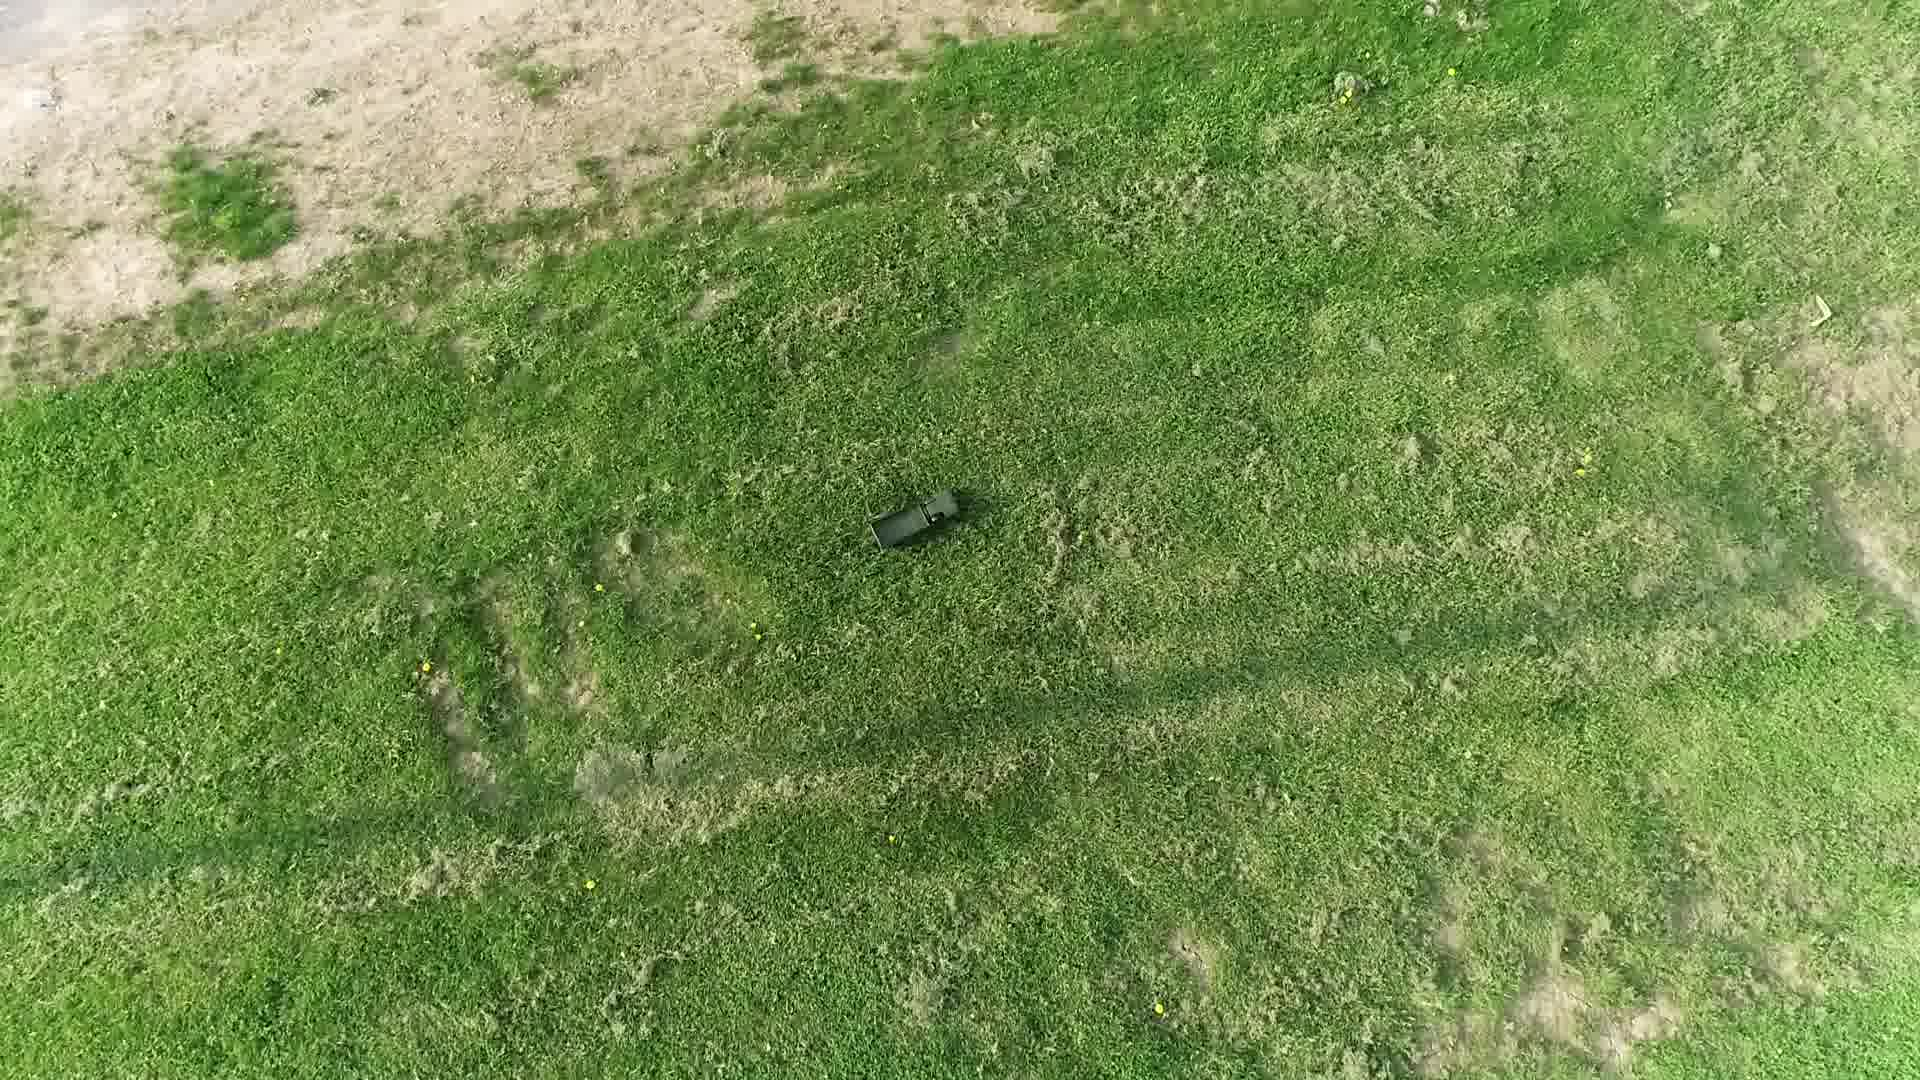transporter9: (862, 483, 964, 555)
